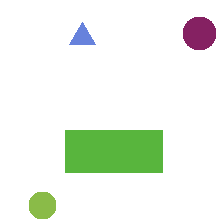circle: (183, 17, 215, 49), (29, 192, 55, 218)
rectangle: (65, 130, 162, 172)
triangle: (69, 22, 95, 44)
